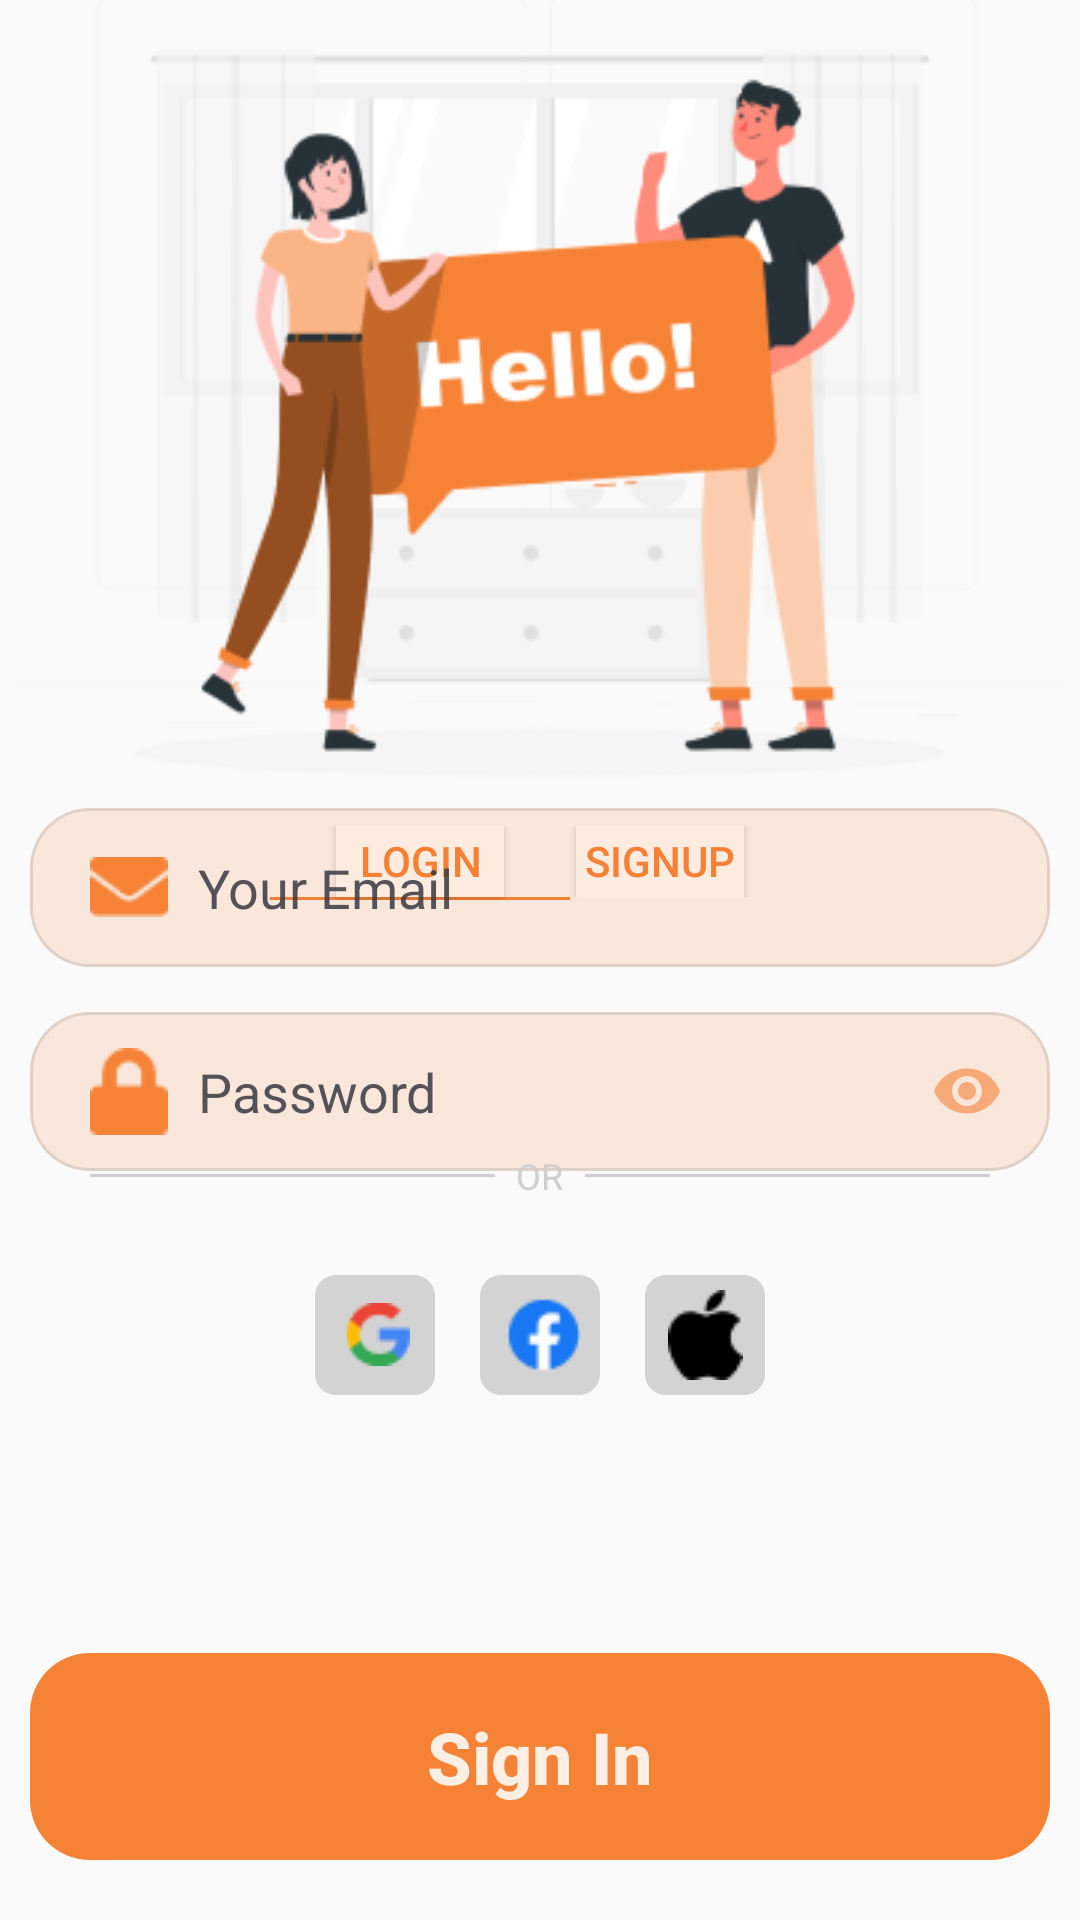

Screen size 1080w x 1920h. Icon name, then its box in pixels as (x1, y1, x2, y2):
eye: (934, 1068, 1000, 1114)
